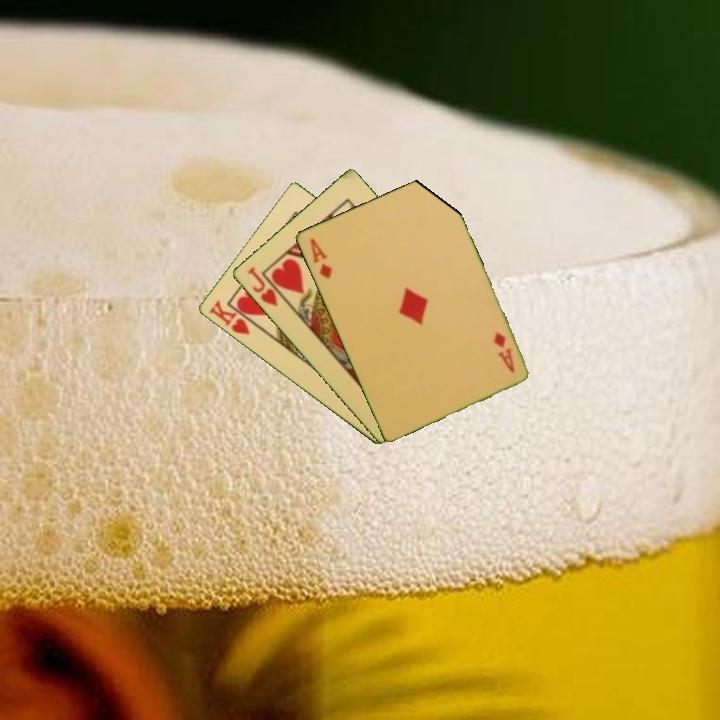Ad: (306, 234, 334, 282), (490, 328, 517, 376)
Jh: (243, 263, 289, 309)
Kh: (205, 296, 260, 338)
